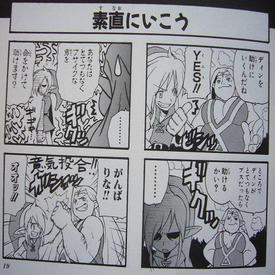bubble: (233, 48, 268, 103)
